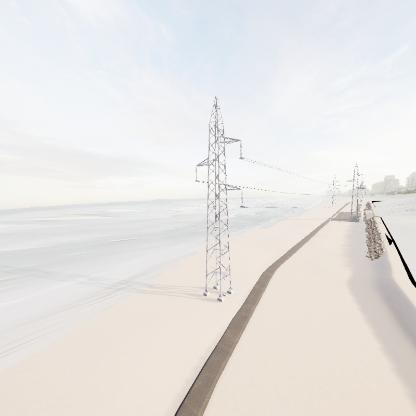tower: (191, 95, 250, 306)
